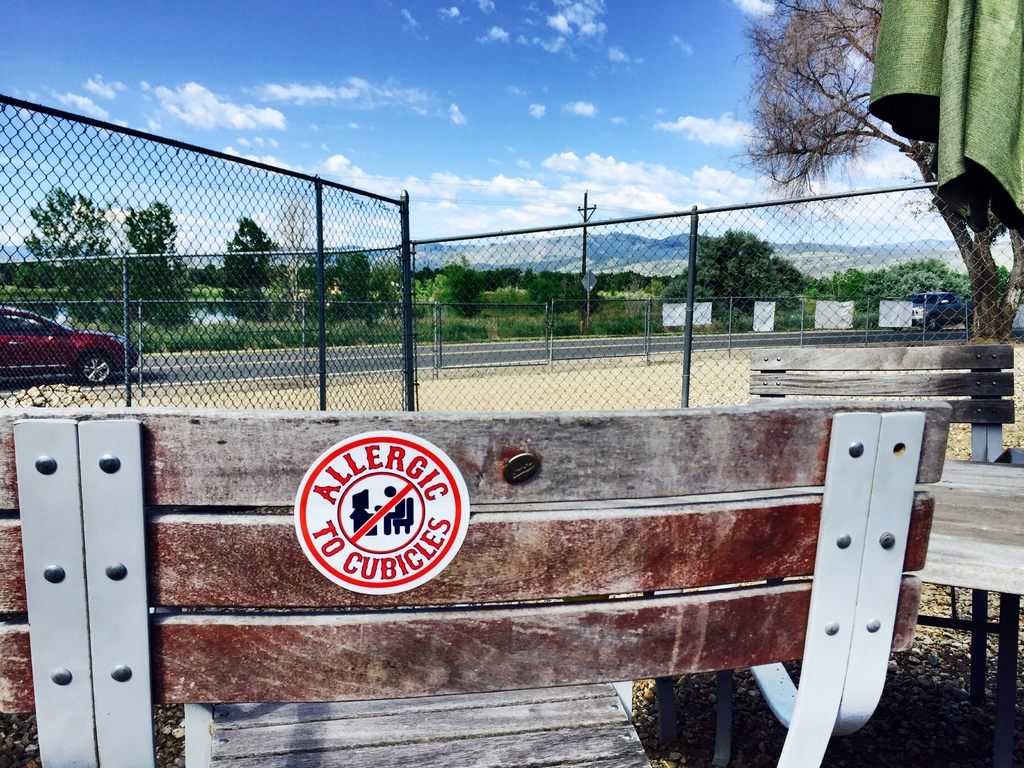Car: (0, 293, 134, 388)
